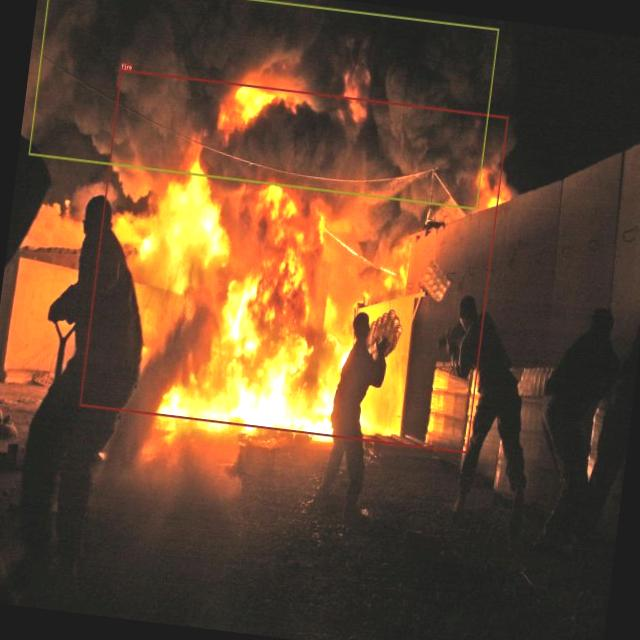fire: (79, 69, 508, 452)
smoke: (27, 0, 498, 209)
